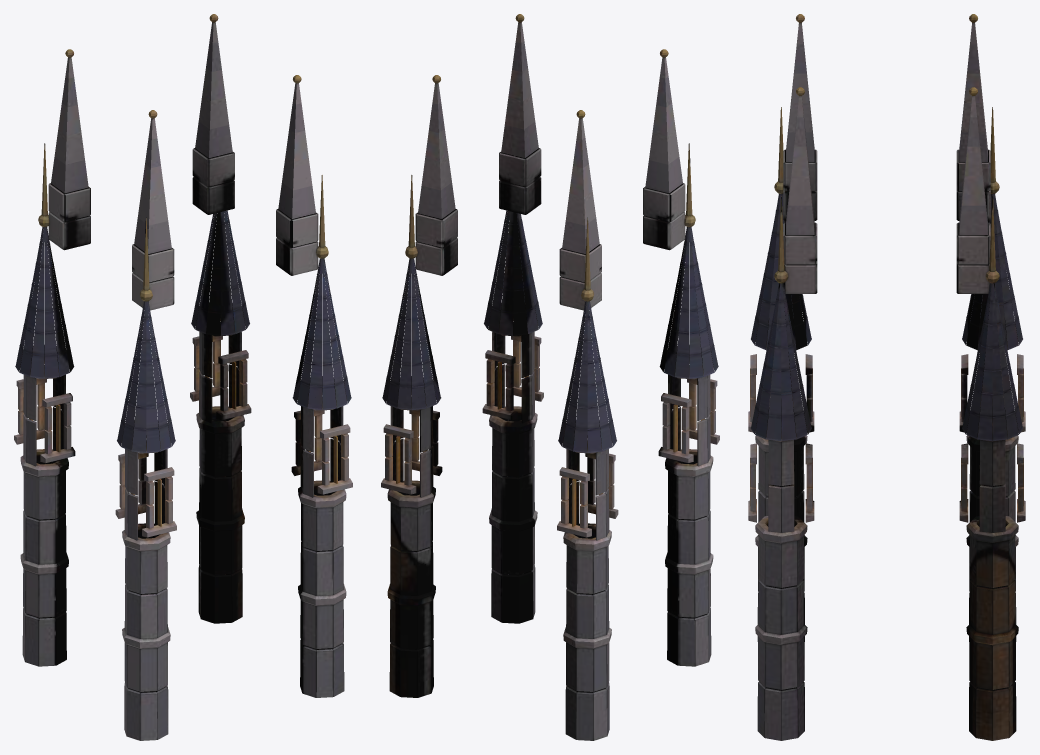
The model's file is expand_clock_auxiliary.glb.
The picture shows the model from 3 angles, left to right: view 1: azimuth 30°, elevation 25°; view 2: azimuth 150°, elevation 25°; view 3: azimuth 270°, elevation 25°; orthographic projection. The views are drawn at different scales.
Visible parts, largest first — view 1: expand_clock_auxiliary_GI; view 2: expand_clock_auxiliary_GI; view 3: expand_clock_auxiliary_GI.
Part boxes in pixels (x1=…): expand_clock_auxiliary_GI: x1=14, y1=14, x2=352, y2=740; expand_clock_auxiliary_GI: x1=381, y1=14, x2=719, y2=740; expand_clock_auxiliary_GI: x1=748, y1=14, x2=1025, y2=740.
Size of the model in its own units: 7.88 by 20.27 by 8.
1 material, 1 textured.
